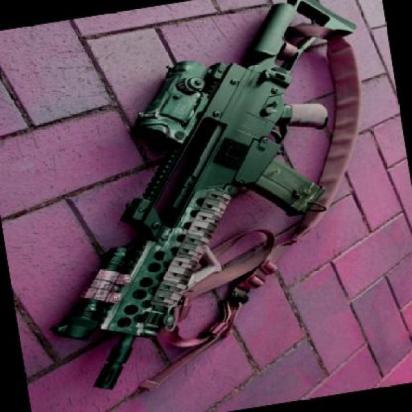Gun: (70, 0, 374, 397)
